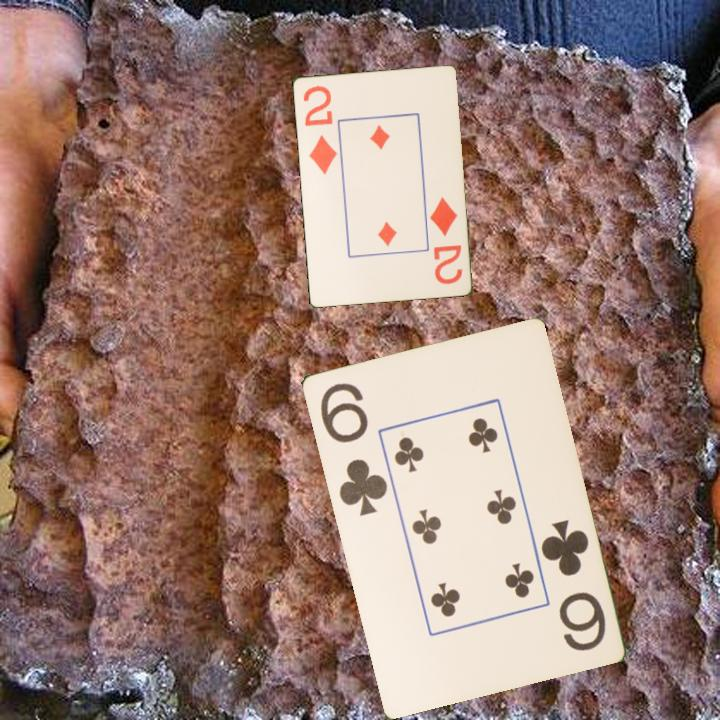2d: (299, 81, 339, 177), (425, 193, 465, 287)
6c: (316, 378, 390, 519), (536, 515, 608, 654)
